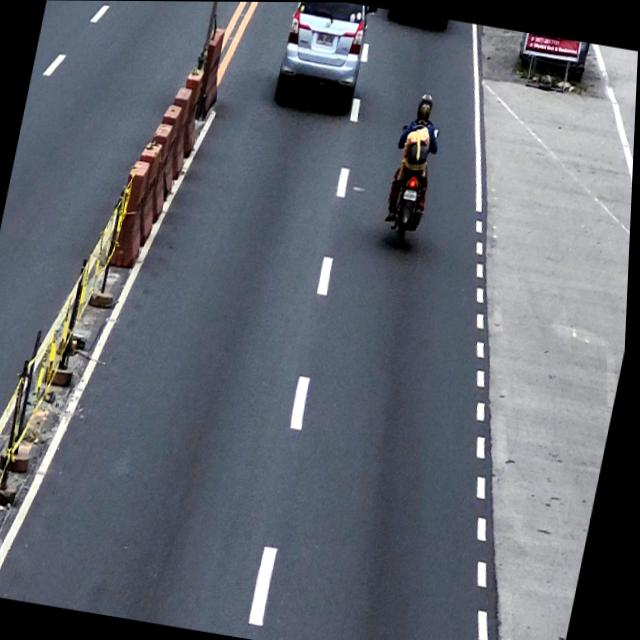Car: (270, 2, 377, 115)
License-Plate: (314, 32, 336, 48), (405, 187, 421, 201)
Motorcycle: (382, 121, 442, 248)
